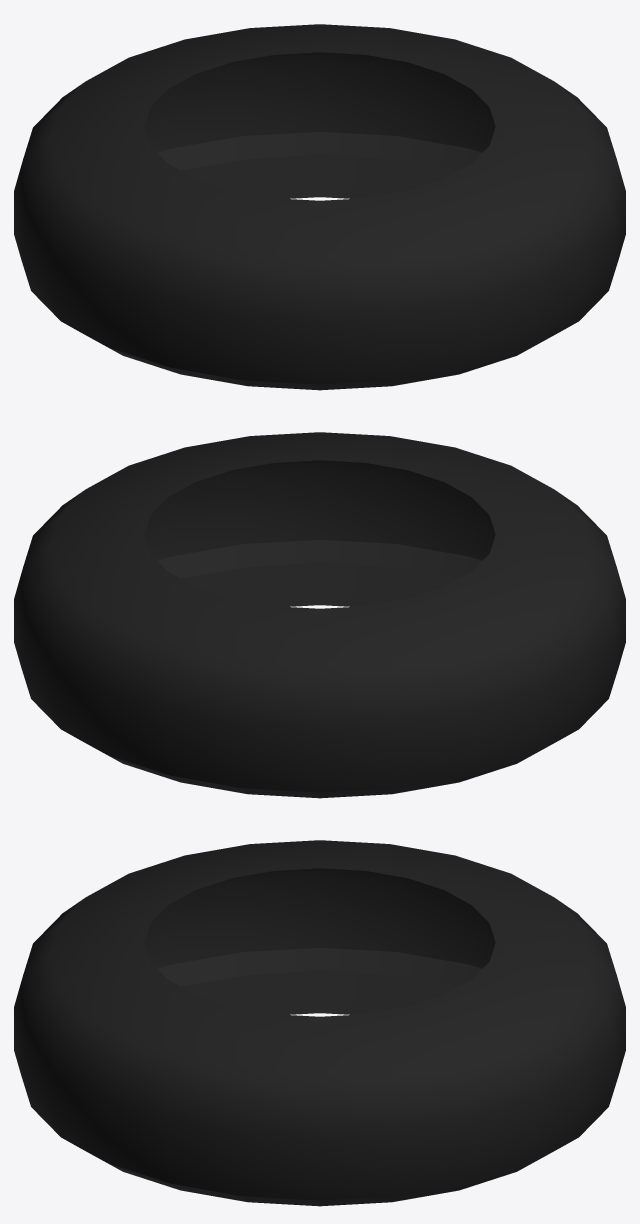
Rendered from TanHuang_QiNang_1X3_on.FBX.
3 renders of one model, top to bottom at view 1: azimuth 30°, elevation 25°; view 2: azimuth 150°, elevation 25°; view 3: azimuth 270°, elevation 25°, orthographic.
Parts seen in each view (by area): view 1: Box001; view 2: Box001; view 3: Box001.
Part boxes in pixels (x1,y1,x2,y2): Box001: (14, 24, 625, 390); Box001: (14, 432, 625, 798); Box001: (14, 840, 625, 1206).
Size of the model in its own units: 2.57 by 1 by 2.57.
